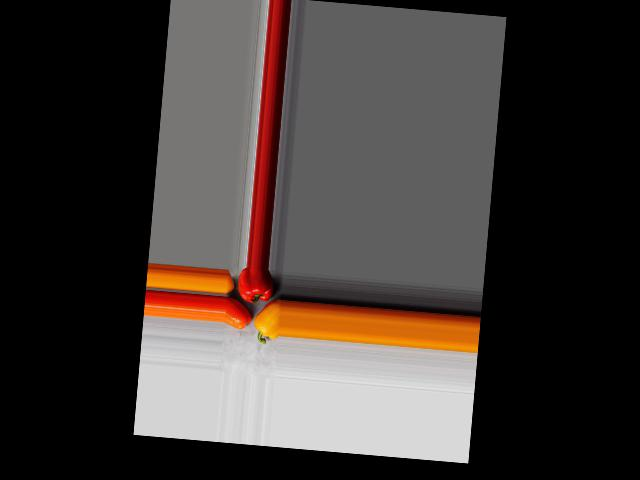bell_pepper: (237, 268, 278, 303)
